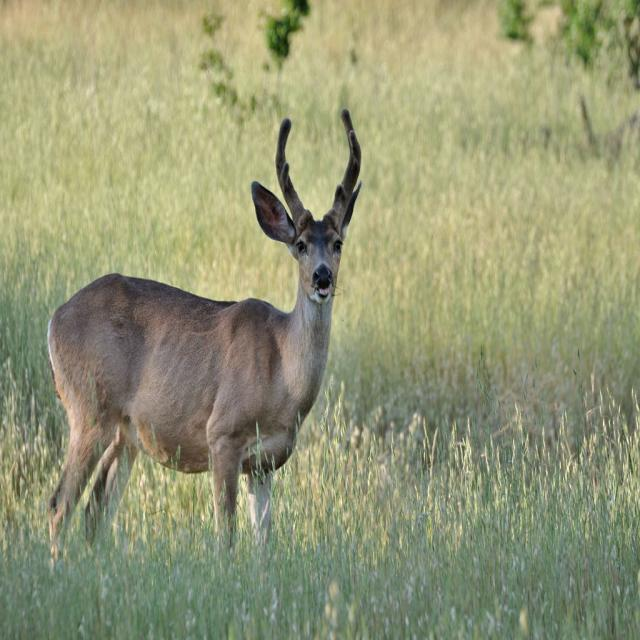Deer: (46, 108, 362, 572)
